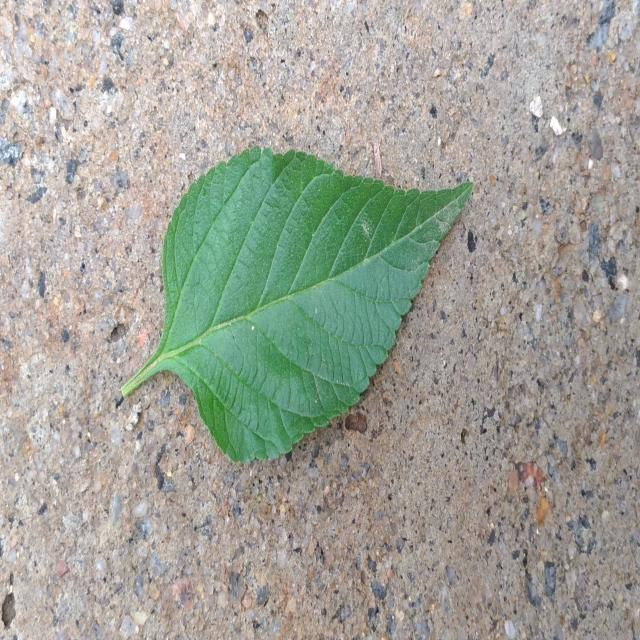Lantana: (124, 147, 472, 462)
